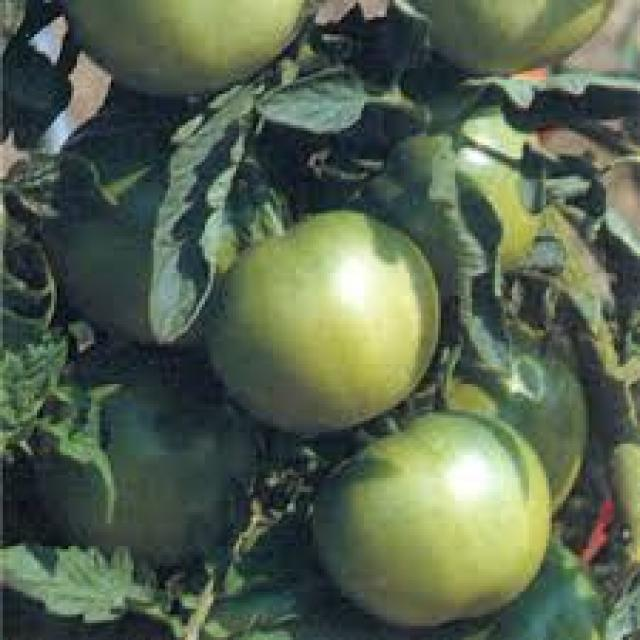organic waste: (37, 119, 296, 350), (29, 344, 273, 575), (307, 404, 549, 626), (205, 205, 438, 435), (356, 102, 549, 282), (438, 313, 586, 526), (57, 0, 321, 91), (390, 0, 617, 77)
